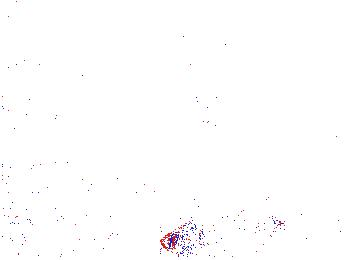X-ray fish: (187, 91, 246, 139), (214, 210, 274, 243), (160, 222, 204, 253), (210, 237, 233, 256)
